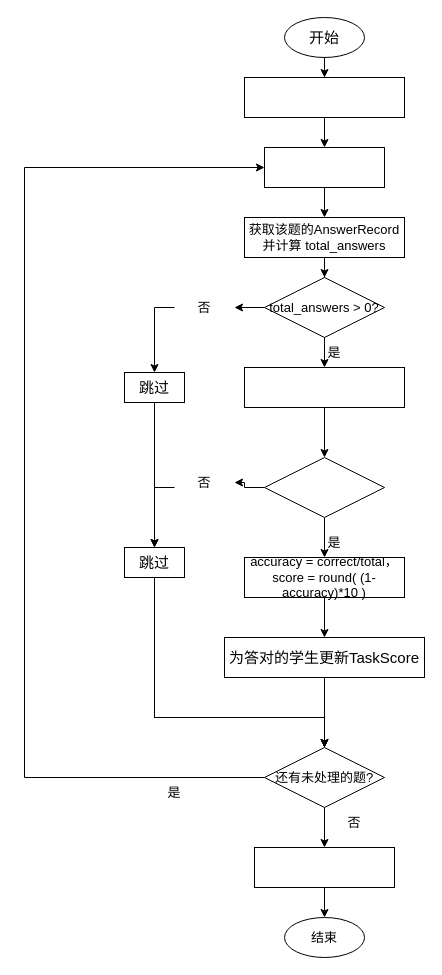
Image size: 442x975. Some labels were removed from this diagram. Here are the shapes that lost their labels. From the top down, the box of each, then its label:
(244, 76, 404, 118): 通过任务ID从而获取任务的所有答题记录
(264, 146, 384, 188): 遍历每一道题
(244, 366, 404, 408): 计算 correct_answers
(264, 456, 384, 518): correct_answers > 0?
(254, 846, 394, 888): 汇总计算总分并排序
